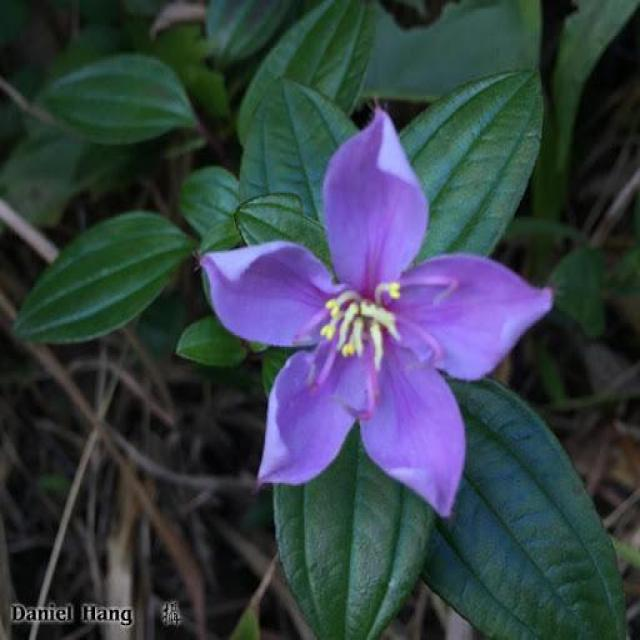organic waste: (181, 118, 560, 516)
